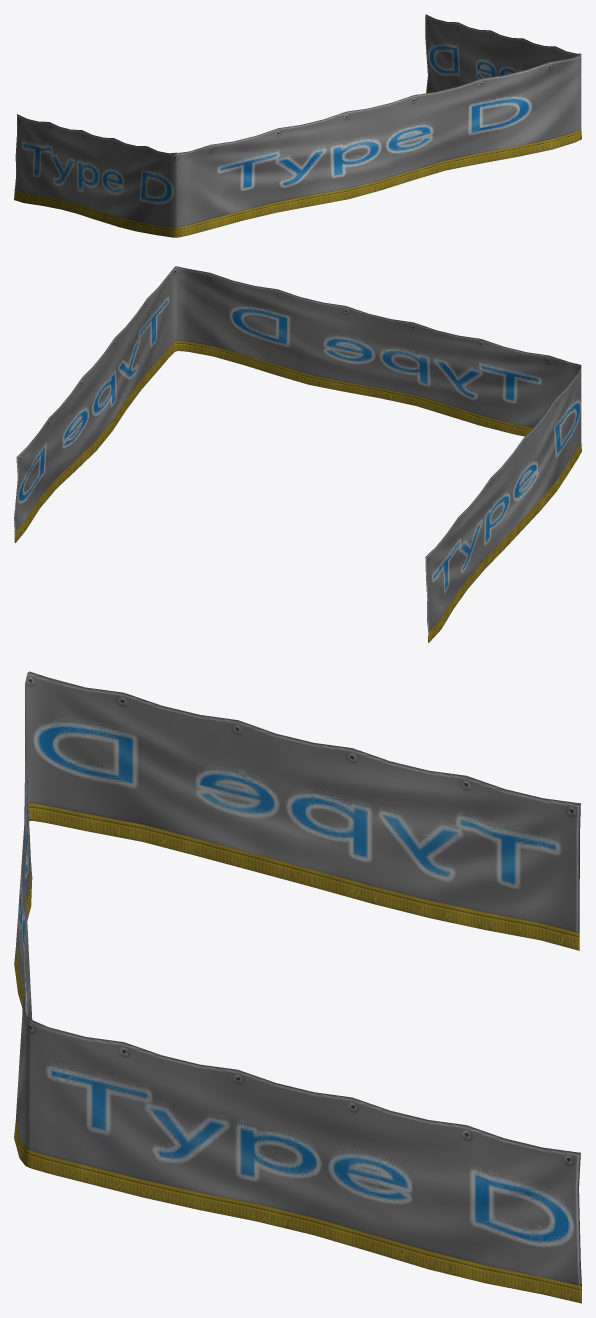
Rendered from jsf_ShopCurtain_d_s03.fbx.
The picture shows the model from 3 angles, top to bottom: view 1: azimuth 30°, elevation 25°; view 2: azimuth 150°, elevation 25°; view 3: azimuth 270°, elevation 25°; orthographic projection. The views are drawn at different scales.
Visible parts, largest first — view 1: jsf_ShopCurtain_d_s03; view 2: jsf_ShopCurtain_d_s03; view 3: jsf_ShopCurtain_d_s03.
Boxes of the visible parts, left/top/right/bottom form: jsf_ShopCurtain_d_s03: left=14, top=14, right=581, bottom=237; jsf_ShopCurtain_d_s03: left=14, top=266, right=581, bottom=642; jsf_ShopCurtain_d_s03: left=14, top=671, right=581, bottom=1303.
Size of the model in its own units: 323 by 119 by 216.
